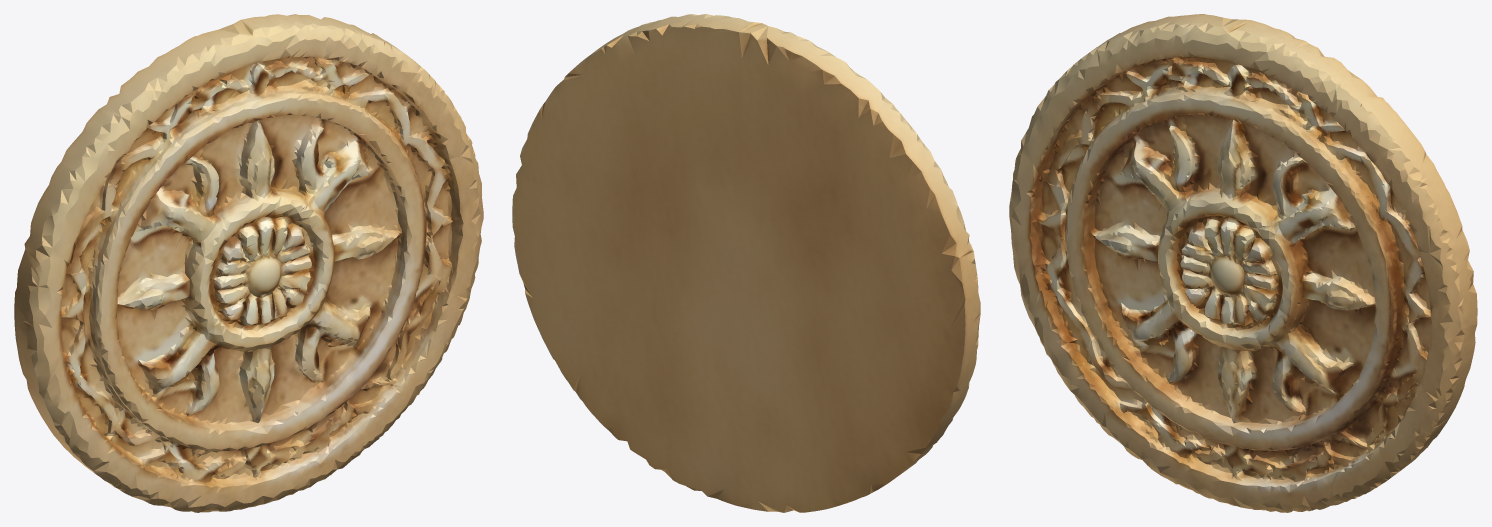
Rendered from ancient_carved_symbol.glb.
The picture shows the model from 3 angles, left to right: view 1: azimuth 30°, elevation 25°; view 2: azimuth 150°, elevation 25°; view 3: azimuth 330°, elevation 25°; orthographic projection.
Visible parts, largest first — view 1: ancient_carved_symbol; view 2: ancient_carved_symbol; view 3: ancient_carved_symbol.
Part boxes in pixels (x1,y1,x2,y2): ancient_carved_symbol: (14, 14, 483, 512); ancient_carved_symbol: (512, 14, 980, 512); ancient_carved_symbol: (1009, 14, 1477, 512).
Bounding box in the file's own units: 1.9 × 1.9 × 0.2004.
Materials: 1 (1 with a texture image).
